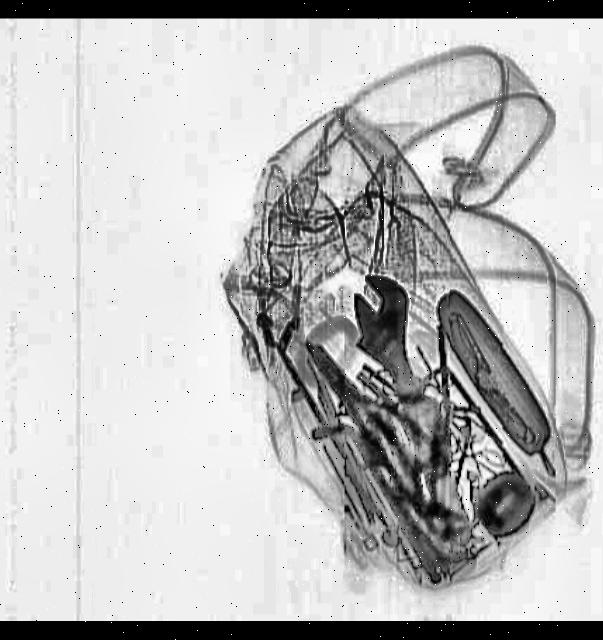Wrench: (330, 261, 493, 556)
